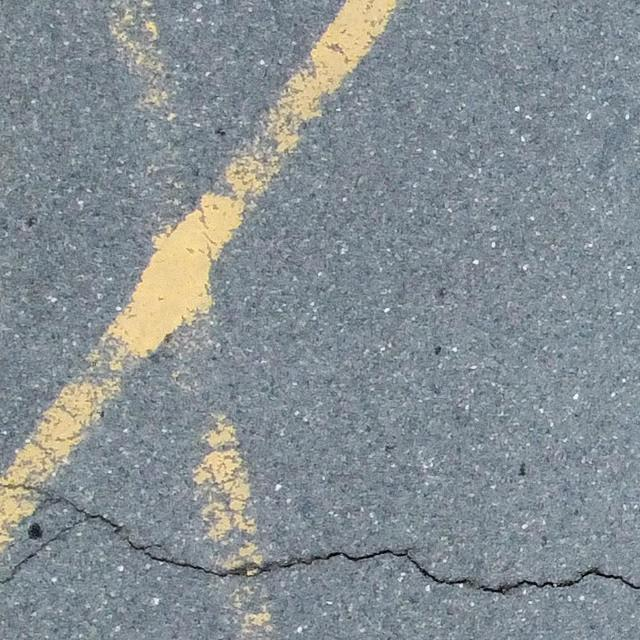TransverseCrack: (1, 482, 640, 595)
